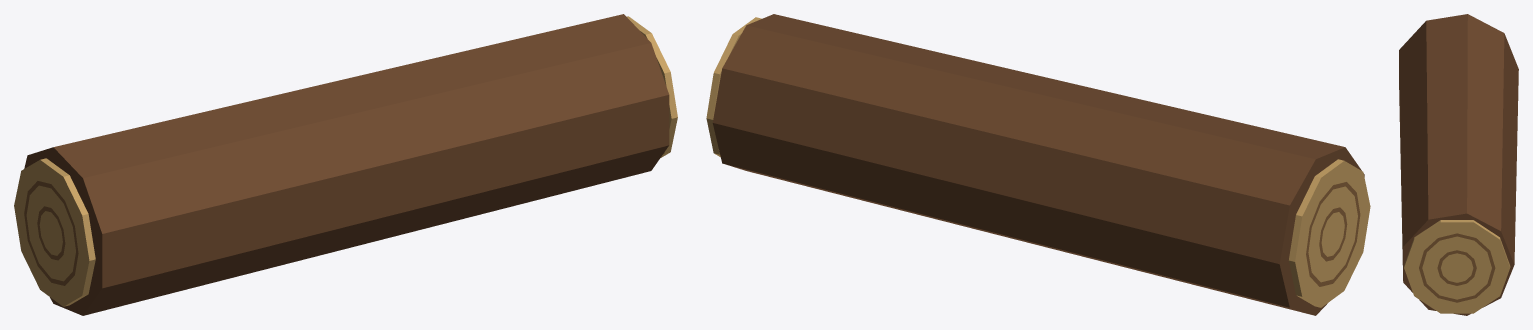
The model's file is item-log.glb.
3 renders of one model, left to right at view 1: azimuth 30°, elevation 25°; view 2: azimuth 150°, elevation 25°; view 3: azimuth 270°, elevation 25°, orthographic. The views are drawn at different scales.
Parts seen in each view (by area): view 1: item-log.001; view 2: item-log.001; view 3: item-log.001.
Boxes of the visible parts, bbox=[...] form: item-log.001: bbox=[14, 14, 677, 315]; item-log.001: bbox=[706, 14, 1370, 315]; item-log.001: bbox=[1399, 14, 1518, 315].
Size of the model in its own units: 1.4 by 0.3545 by 0.3491.
